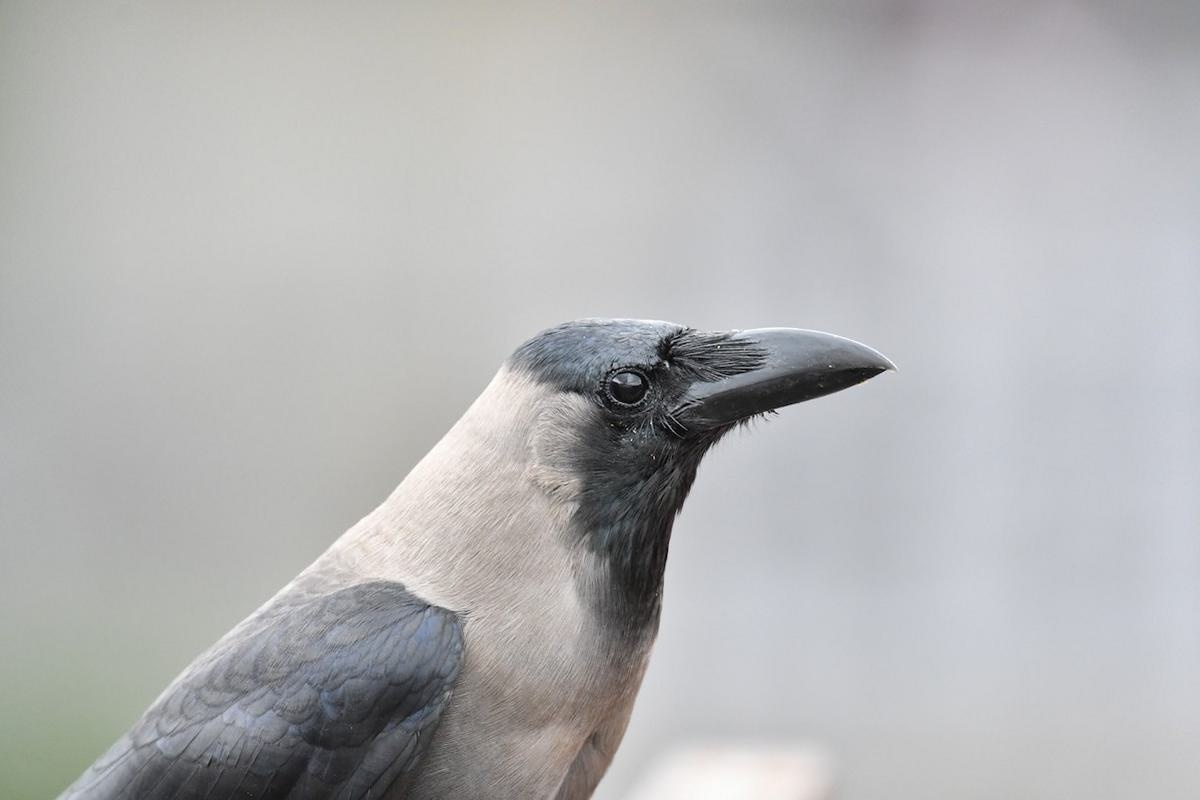crow: (66, 299, 904, 800)
